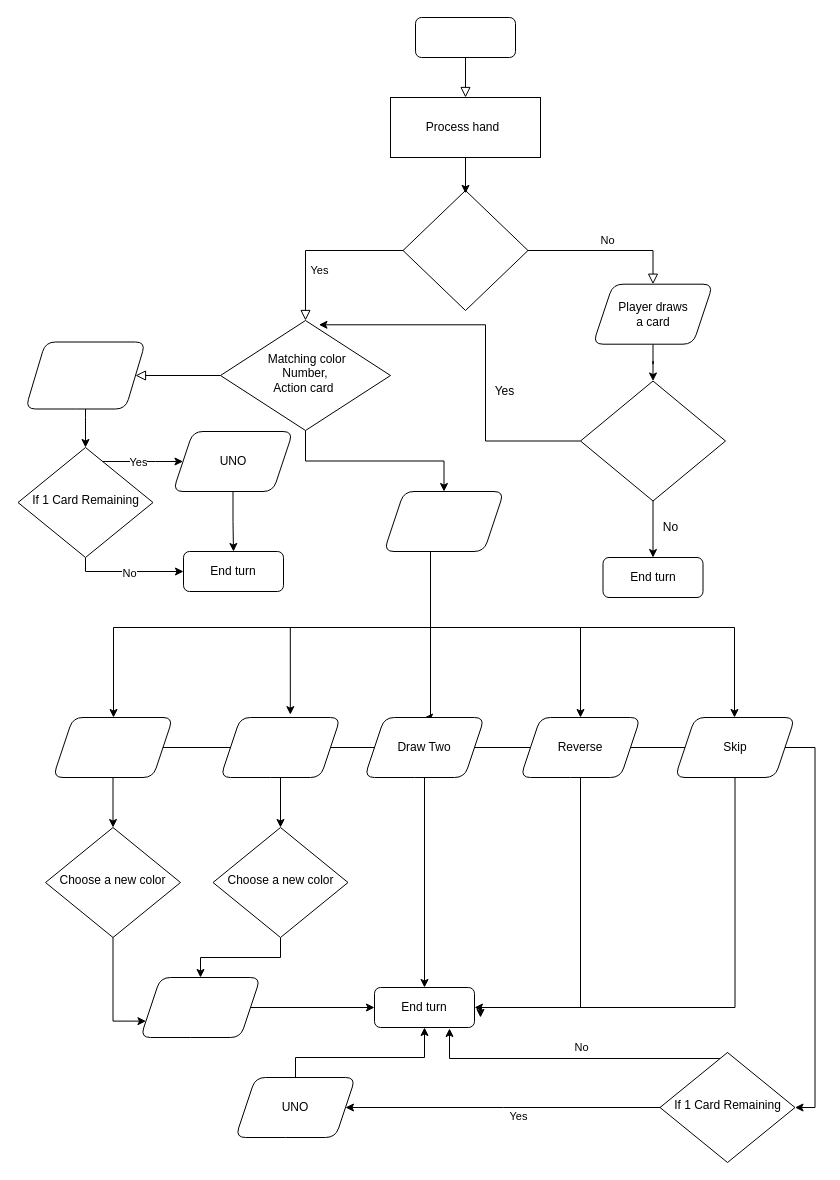
This 840x1180 diagram has some shape labels left out. Here are the shapes that lost their labels. From the top down, the centre of each, then its label:
At pixel 465 37: "Start".
At pixel 465 250: "Player decides to play".
At pixel 85 375: "Color or Number Played".
At pixel 653 440: "Player decides to play card".
At pixel 443 521: "Action Card".
At pixel 112 747: "Wild Draw 4".
At pixel 280 747: "Wild".
At pixel 200 1007: "Color".
